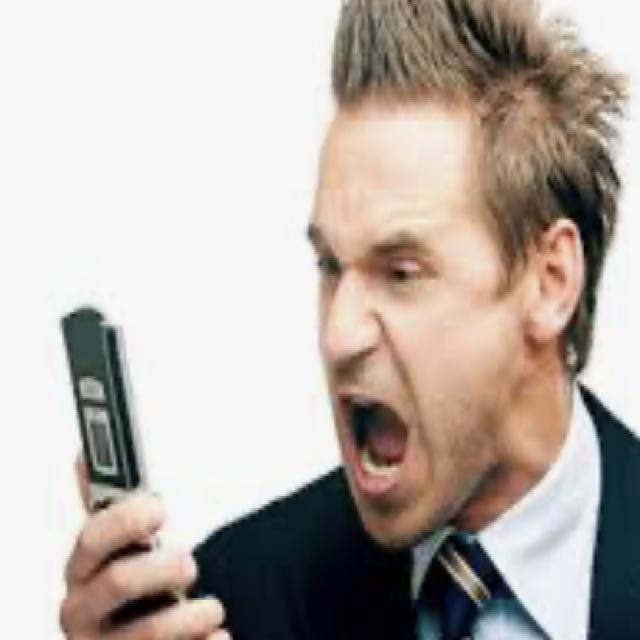Angry: (258, 0, 579, 559)
